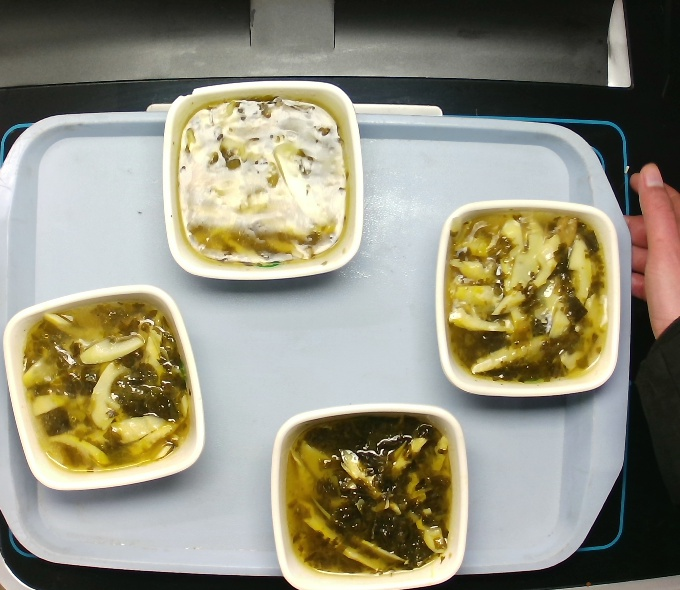wcq-DongSunTang: (15, 293, 192, 479), (442, 203, 613, 387), (174, 92, 351, 269), (281, 408, 455, 580)
